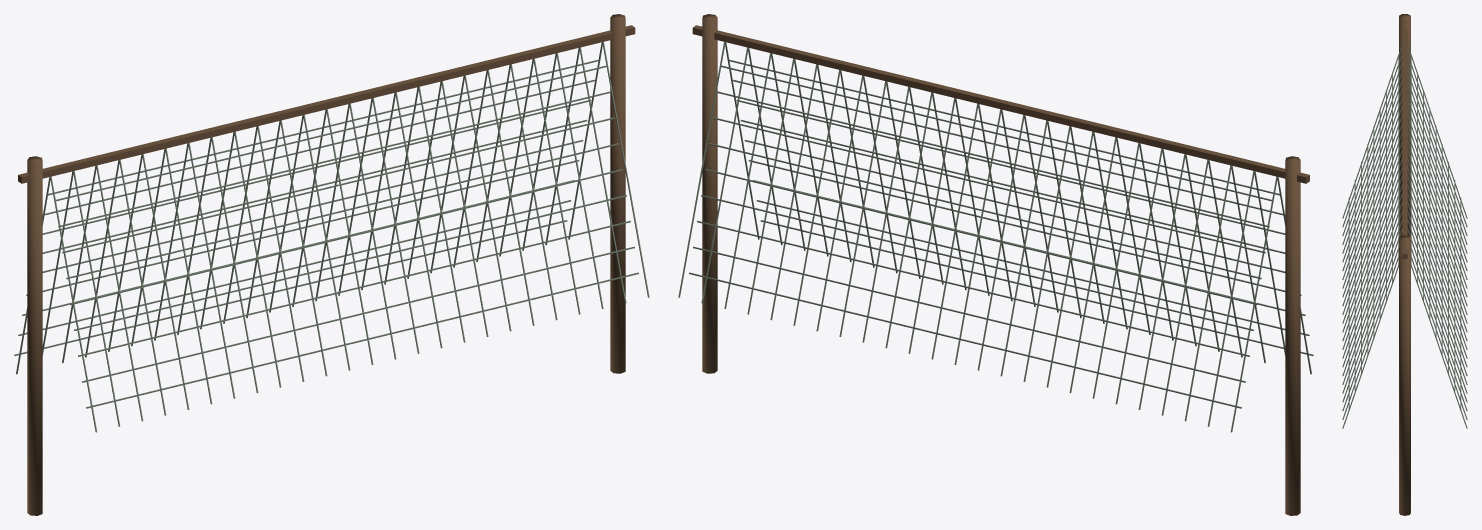
File: fishing_net_rack.glb
3 views of the same model, side by side, from view 1: azimuth 30°, elevation 25°; view 2: azimuth 150°, elevation 25°; view 3: azimuth 270°, elevation 25° (orthographic). The views are drawn at different scales.
Parts seen in each view (by area): view 1: fishing_net_rack; view 2: fishing_net_rack; view 3: fishing_net_rack.
Part boxes in pixels (left/top/right/bottom): fishing_net_rack: left=14, top=14, right=649, bottom=515; fishing_net_rack: left=678, top=14, right=1313, bottom=515; fishing_net_rack: left=1342, top=14, right=1467, bottom=515.
Bounding box in the file's own units: 4 × 2.2 × 0.9067.
